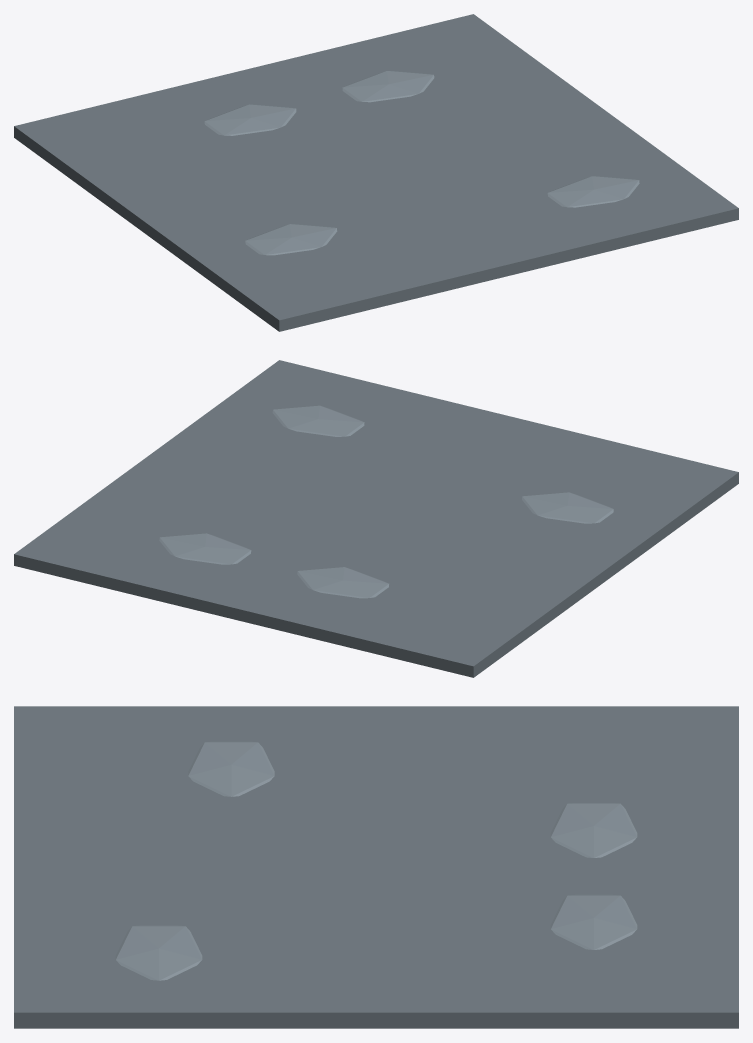
The model's file is SH10_L01_Ground.fbx.
The picture shows the model from 3 angles, top to bottom: view 1: azimuth 30°, elevation 25°; view 2: azimuth 150°, elevation 25°; view 3: azimuth 270°, elevation 25°; orthographic projection. The views are drawn at different scales.
Parts seen in each view (by area): view 1: SH10_L01_Ground; view 2: SH10_L01_Ground; view 3: SH10_L01_Ground.
Boxes of the visible parts, x1,y1,x2,y2 form: SH10_L01_Ground: [14, 14, 738, 331]; SH10_L01_Ground: [14, 360, 738, 677]; SH10_L01_Ground: [14, 706, 738, 1028].
Bounding box in the file's own units: 1000 × 28.5 × 1000.
